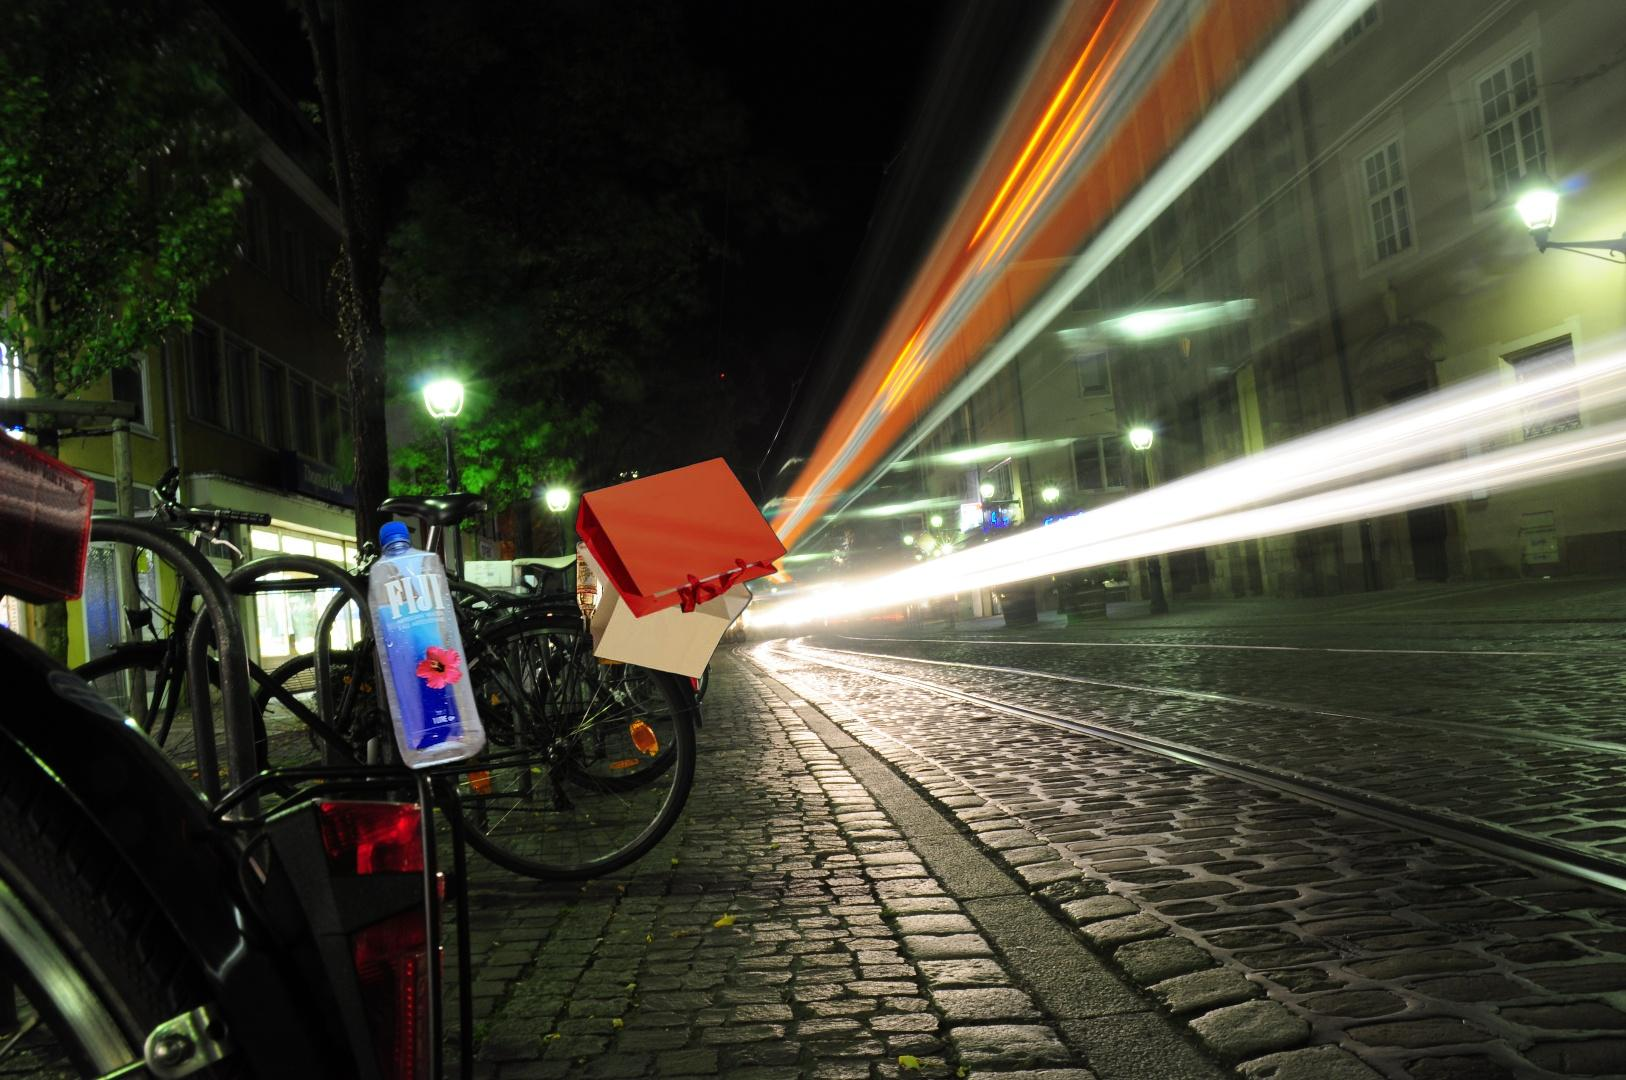paper-bag: (573, 454, 789, 682)
plastic-bottles: (362, 515, 509, 796)
